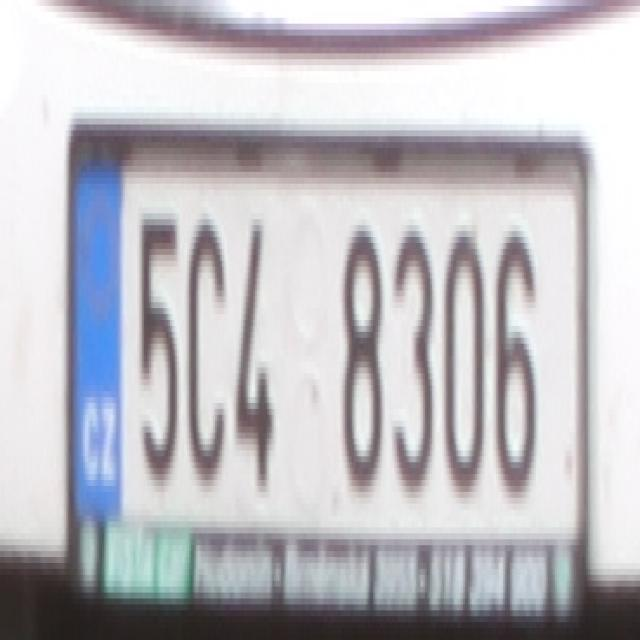0: (439, 225, 484, 498)
3: (388, 225, 432, 498)
4: (231, 190, 272, 486)
5: (135, 213, 179, 486)
6: (492, 225, 538, 492)
8: (342, 219, 383, 498)
C: (186, 201, 226, 480)
